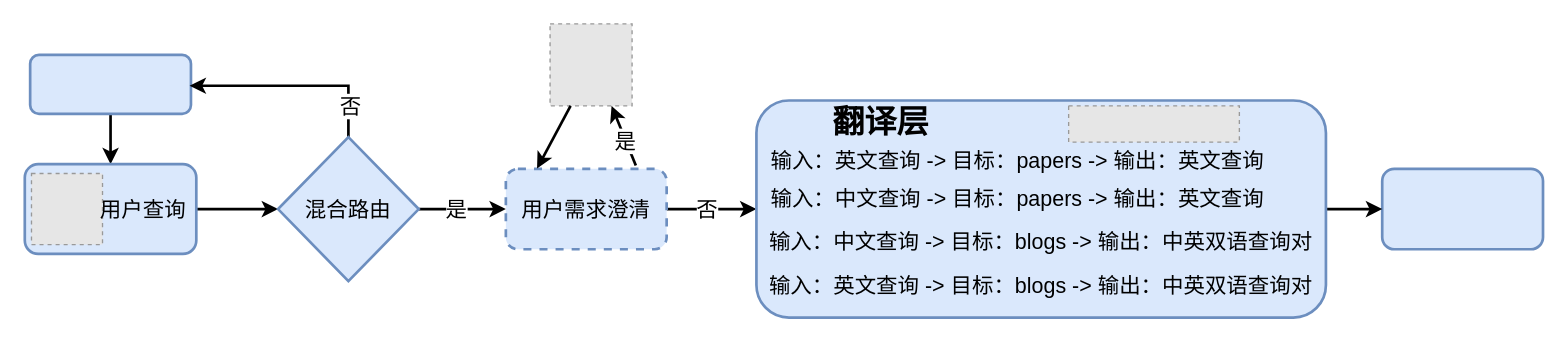
Image size: 1566x342. Some labels were removed from this diagram. Grey dashed boxes stand in for pictures. Here are the shapes that lost their labels. From the top down, the centre of each, then its label:
At pixel 110 84: "返回引导性提示".
At pixel 1462 208: "多源混合检索".
